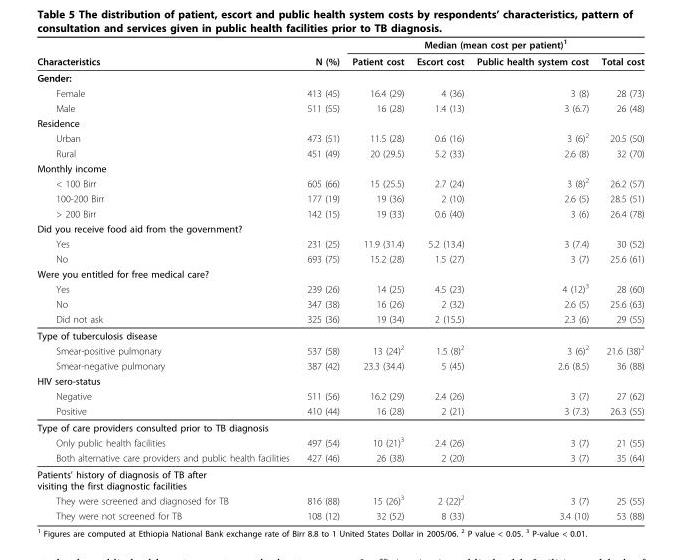table: (36, 37, 643, 521)
table column: (36, 37, 297, 521), (469, 37, 594, 521), (345, 37, 409, 521), (409, 37, 469, 521), (594, 37, 643, 521), (297, 37, 345, 521)
table column header: (36, 37, 643, 69)
table projected row header: (36, 465, 643, 492), (36, 69, 643, 85), (36, 372, 643, 388), (36, 418, 643, 434), (36, 220, 643, 235), (36, 265, 643, 280), (36, 327, 643, 342), (36, 115, 643, 129), (36, 160, 643, 174)
table row: (36, 465, 643, 492), (36, 52, 643, 69), (36, 69, 643, 85), (36, 129, 643, 145), (36, 174, 643, 190), (36, 280, 643, 296), (36, 311, 643, 327), (36, 372, 643, 388), (36, 418, 643, 434), (36, 449, 643, 465), (36, 37, 643, 52), (36, 85, 643, 100), (36, 100, 643, 115), (36, 145, 643, 160), (36, 190, 643, 205), (36, 205, 643, 220), (36, 220, 643, 235), (36, 235, 643, 250), (36, 250, 643, 265), (36, 265, 643, 280), (36, 296, 643, 311), (36, 327, 643, 342), (36, 342, 643, 357), (36, 357, 643, 372), (36, 388, 643, 403), (36, 403, 643, 418), (36, 434, 643, 449), (36, 492, 643, 507), (36, 115, 643, 129), (36, 160, 643, 174), (36, 507, 643, 521)
table spanning cell: (36, 37, 297, 69), (345, 37, 643, 52), (297, 37, 345, 69)
